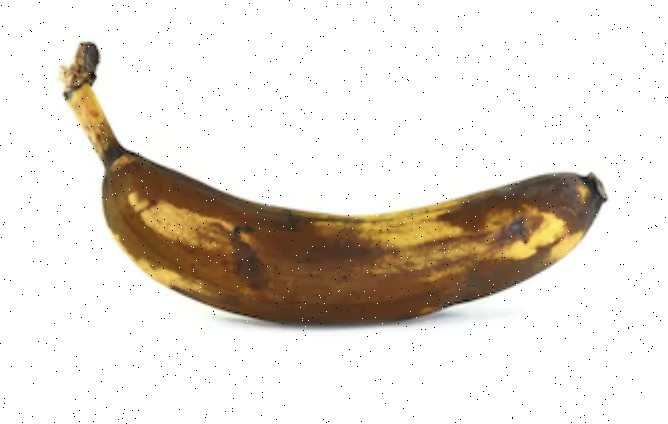rotten_banana: (65, 64, 611, 328)
